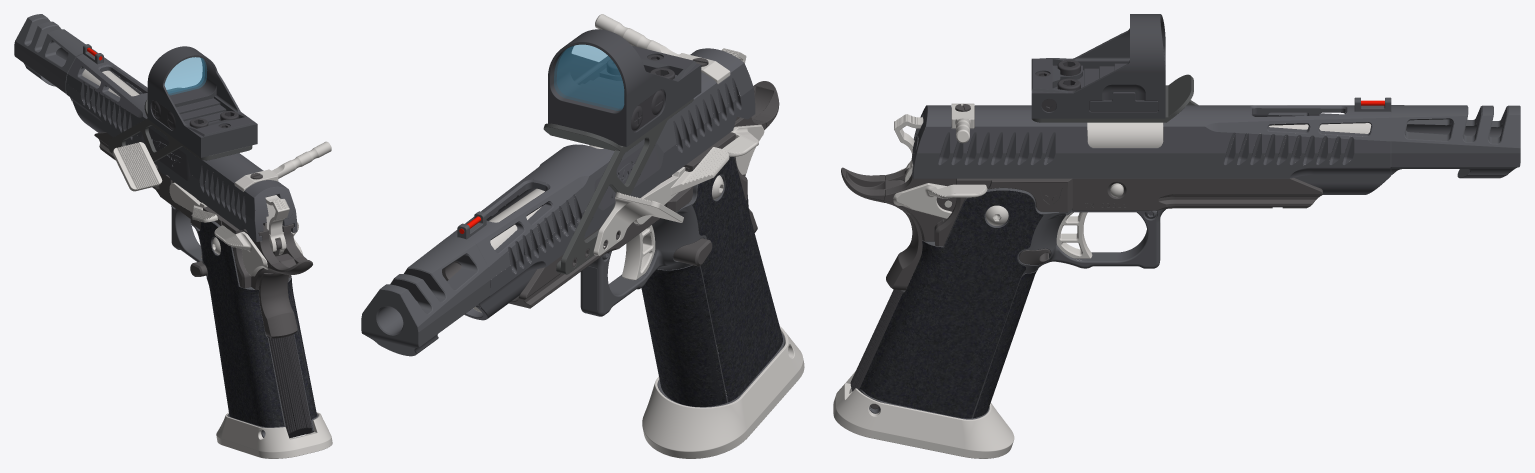
Rendered from open.glb.
3 views of the same model, side by side, from view 1: azimuth 30°, elevation 25°; view 2: azimuth 150°, elevation 25°; view 3: azimuth 270°, elevation 25° (orthographic). The views are drawn at different scales.
Parts seen in each view (by area): view 1: 握把-1, 滑套, cmore-1.001, 中段-1.001, charging handle-1, 抑制器.SLDPRT, Part4, 擊錘簧座_預設.stp-1, frame optic mount-2, 中段左片-1.001, 右拇指保險-1, glass-1 (+2 smaller); view 2: 握把-1, 滑套, cmore-1.001, 抑制器.SLDPRT, Part4, charging handle-1, frame optic mount-2, glass-1, 中段-1.001, 扳機-1.001, 中段左片-1.001, 右拇指保險-1 (+2 smaller); view 3: 滑套, 握把-1, 中段-1.001, cmore-1.001, 抑制器.SLDPRT, Part4, 槍膛-2.001, 右拇指保險-1, frame optic mount-2, 擊錘簧座_預設.stp-1, 扳機-1.001, charging handle-1 (+1 smaller).
Part boxes in pixels (x1,y1,x2,y2): 握把-1: (171,205,318,437); 滑套: (66,52,297,241); cmore-1.001: (147,46,257,157); 中段-1.001: (94,132,312,338); charging handle-1: (112,141,331,222); 抑制器.SLDPRT: (14,14,96,101); Part4: (216,412,332,458); 擊錘簧座_預設.stp-1: (267,334,312,438); frame optic mount-2: (108,87,252,162); 中段左片-1.001: (190,206,279,289); 右拇指保險-1: (214,221,302,276); glass-1: (164,57,206,94); 握把-1: (580,156,785,407); 滑套: (448,48,755,320); cmore-1.001: (548,29,701,146); 抑制器.SLDPRT: (361,236,490,356); Part4: (642,326,804,458); charging handle-1: (593,14,730,255); frame optic mount-2: (543,98,693,274); glass-1: (554,44,624,110); 中段-1.001: (509,81,779,308); 扳機-1.001: (621,225,655,280); 中段左片-1.001: (665,116,766,212); 右拇指保險-1: (722,124,764,174); 滑套: (911,105,1391,194); 握把-1: (859,188,1165,419); 中段-1.001: (841,164,1322,290); cmore-1.001: (1031,14,1165,118); 抑制器.SLDPRT: (1391,105,1520,178); Part4: (833,371,1014,458); 槍膛-2.001: (1087,122,1371,147); 右拇指保險-1: (893,168,987,218); frame optic mount-2: (1032,74,1198,122); 擊錘簧座_預設.stp-1: (850,289,905,391); 扳機-1.001: (1056,212,1092,258); charging handle-1: (951,103,1123,197).
Bounding box in the file's own units: 0.0751 × 0.1863 × 0.2714.
12 materials, 1 textured.
